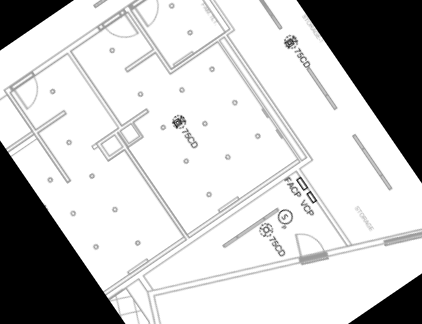door: (283, 221, 333, 273), (7, 69, 50, 113), (102, 10, 141, 50)
double door: (130, 0, 170, 31)
window: (376, 207, 422, 266)
